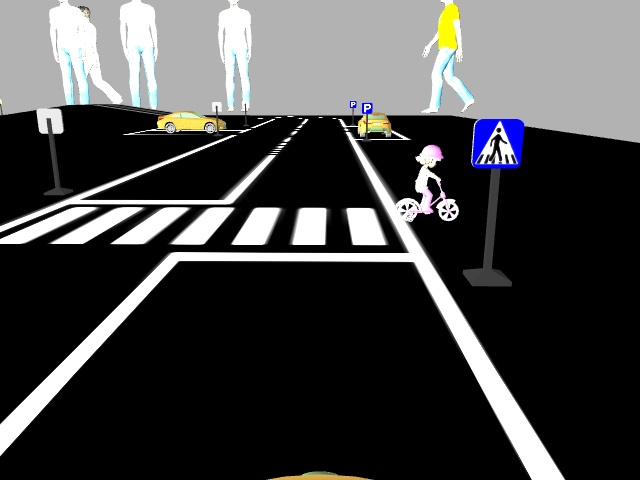Crosswalk: (471, 117, 522, 170)
Parking: (360, 102, 375, 116)
Pedestrian: (395, 141, 461, 224)
